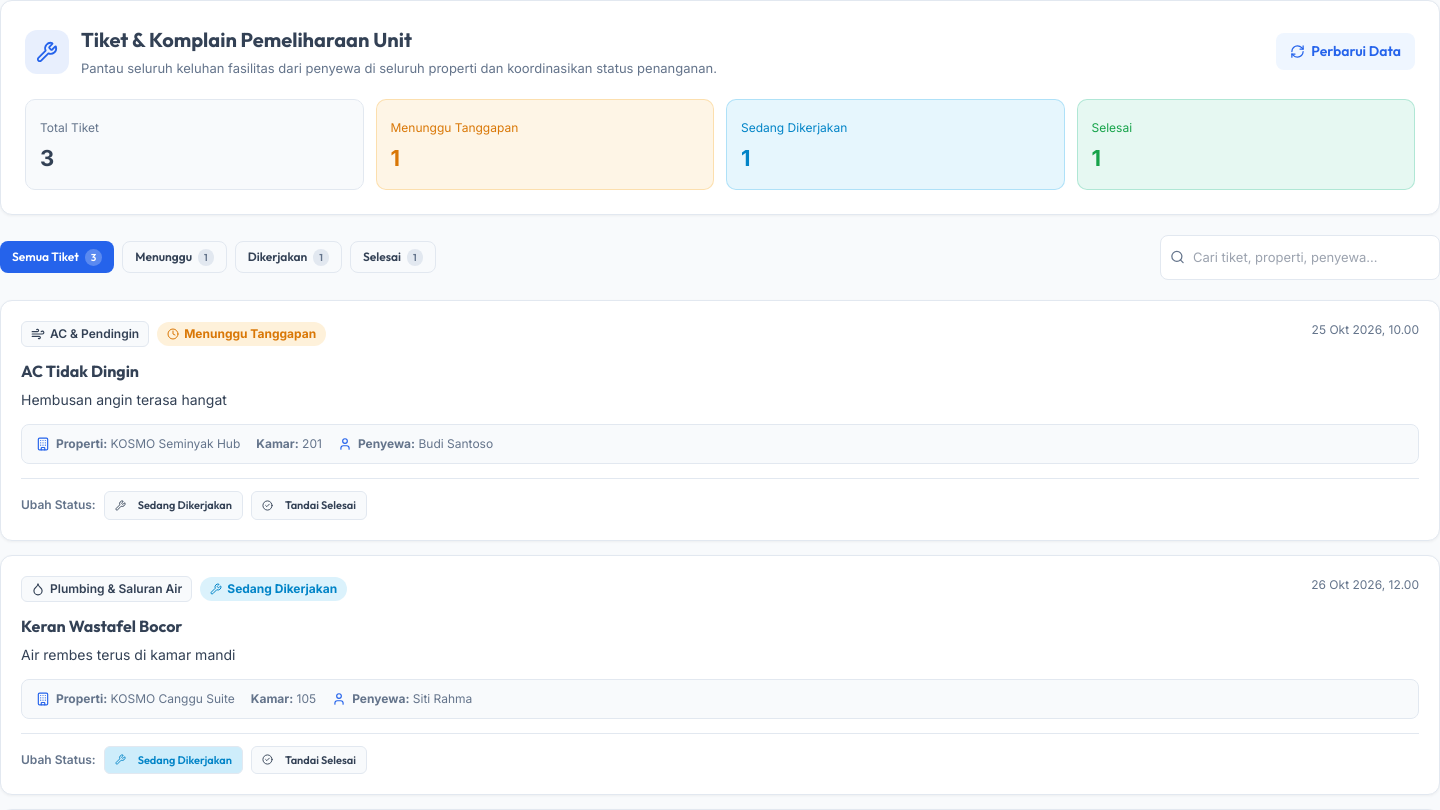
Scenario: Admin MaintenanceTab Component Suite › filters tickets by status filter buttons
Click the button with test id "filter-ticket-open": (174, 257) [122,241,227,273]
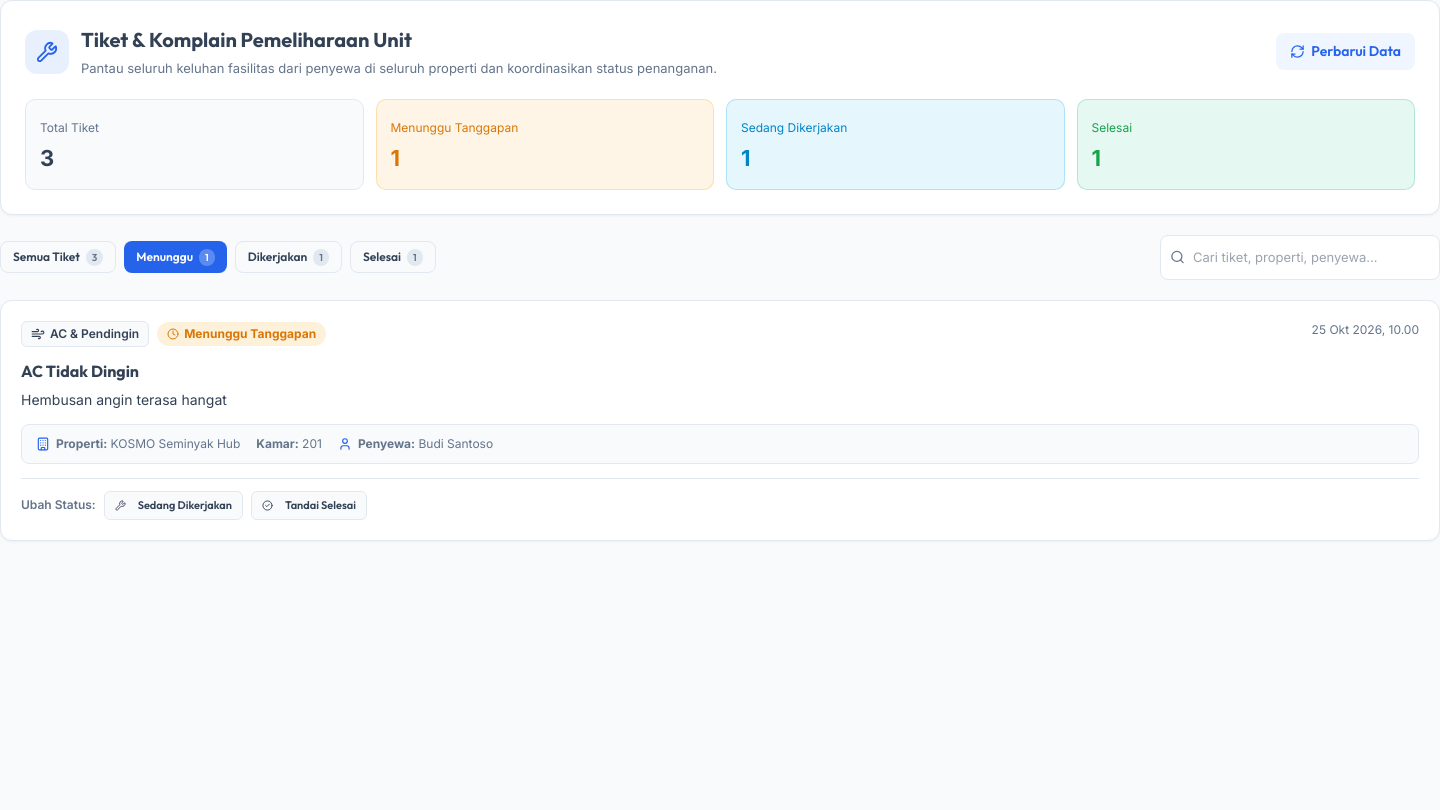
Expected: the heading "AC Tidak Dingin" is shown, [21,361,139,381]
Expected: the heading "Keran Wastafel Bocor" is gone
Click the button with test id "filter-ticket-resolved": (393, 257) [350,241,436,273]
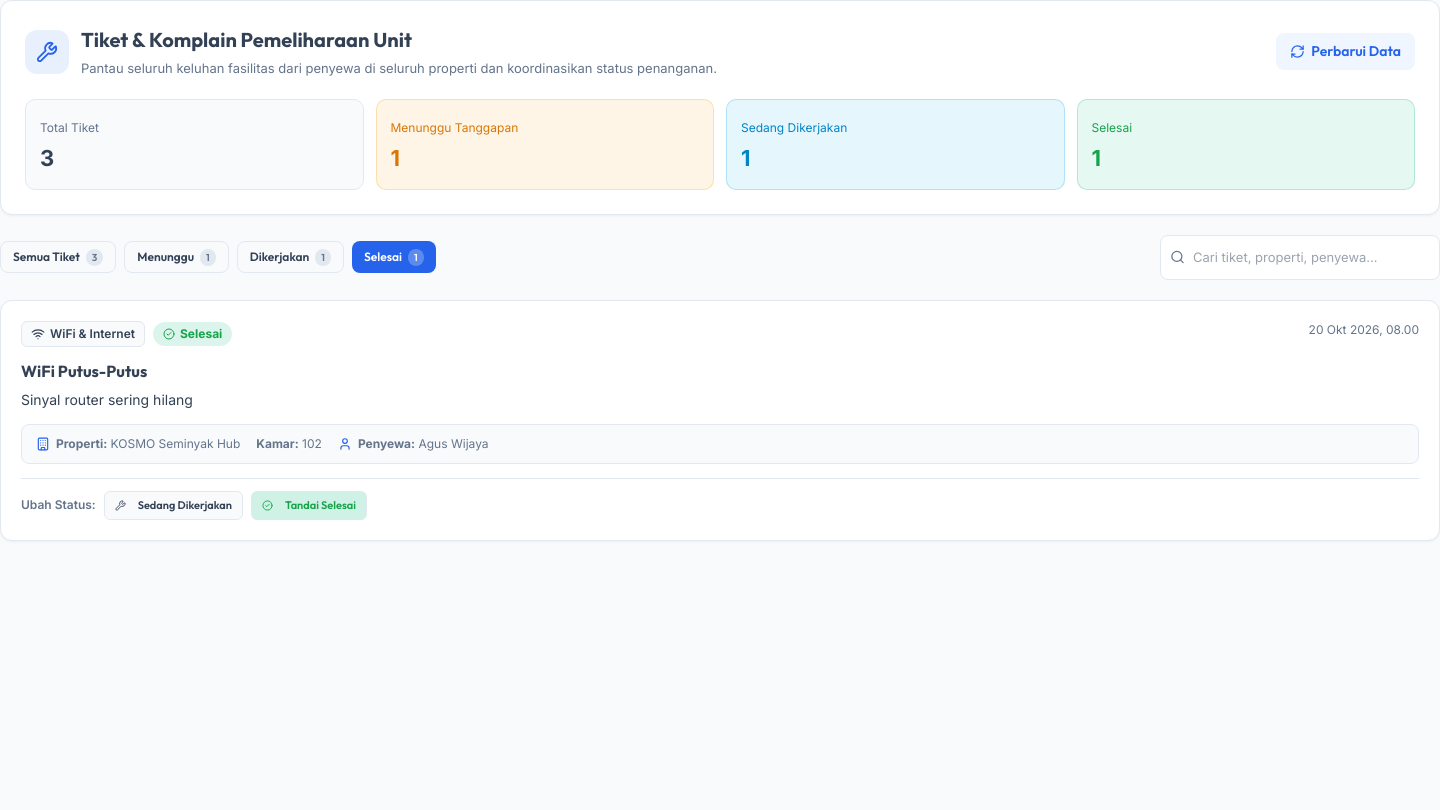
Expected: the heading "WiFi Putus-Putus" is shown, [21,361,147,381]
Expected: the heading "AC Tidak Dingin" is gone
